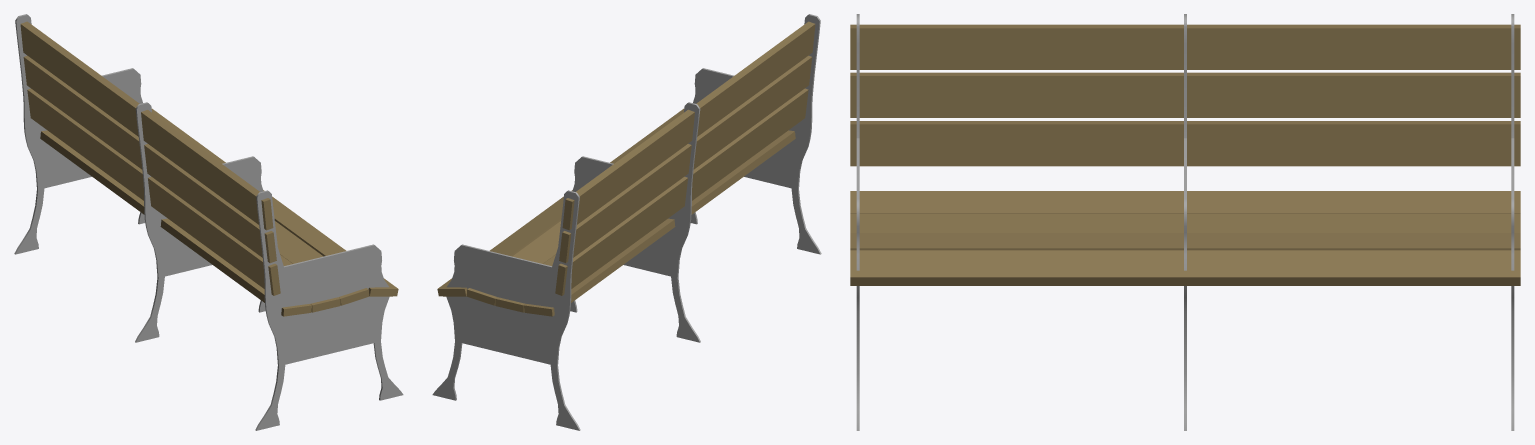
File: SM_Bench.fbx
The picture shows the model from 3 angles, left to right: view 1: azimuth 30°, elevation 25°; view 2: azimuth 150°, elevation 25°; view 3: azimuth 270°, elevation 25°; orthographic projection. The views are drawn at different scales.
Visible parts, largest first — view 1: pCube15; view 2: pCube15; view 3: pCube15.
Boxes of the visible parts, box(x1,y1,x2,y2) form: pCube15: box(14, 14, 403, 430); pCube15: box(432, 14, 821, 430); pCube15: box(850, 14, 1520, 430).
Size of the model in its own units: 81.21 by 125 by 235.
